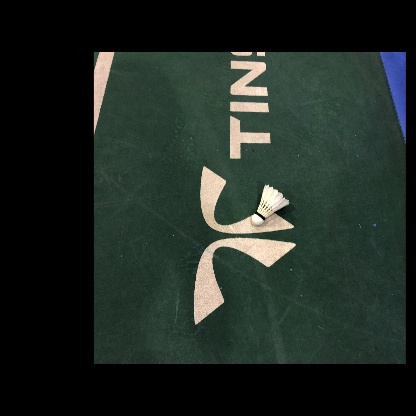ball_single: (252, 184, 290, 225)
